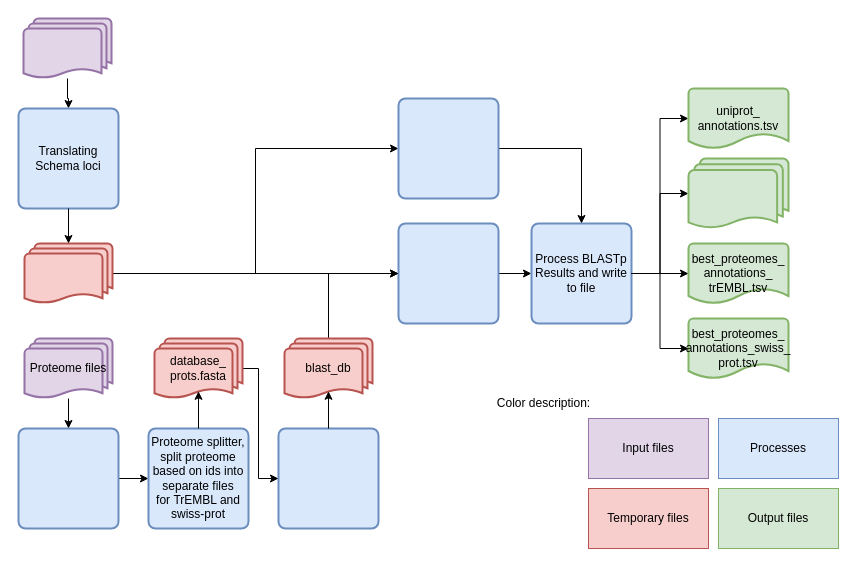
The diagram is 856 pixels wide and 566 high, and some of its shapes have lost their labels. The centre of each missing label's shape, as x and y in pixels:
"best_annotations_ per_proteome_file" belongs at (738,193).
"Calculate self-score" belongs at (448,148).
"Create BLASTp database for swiss-prot and TrEMBL" belongs at (328,478).
"proteome fetcher" belongs at (68,478).
"reps_ translations" belongs at (68,273).
"Run BLASTp for each database" belongs at (448,273).
"Schema" belongs at (67,48).
